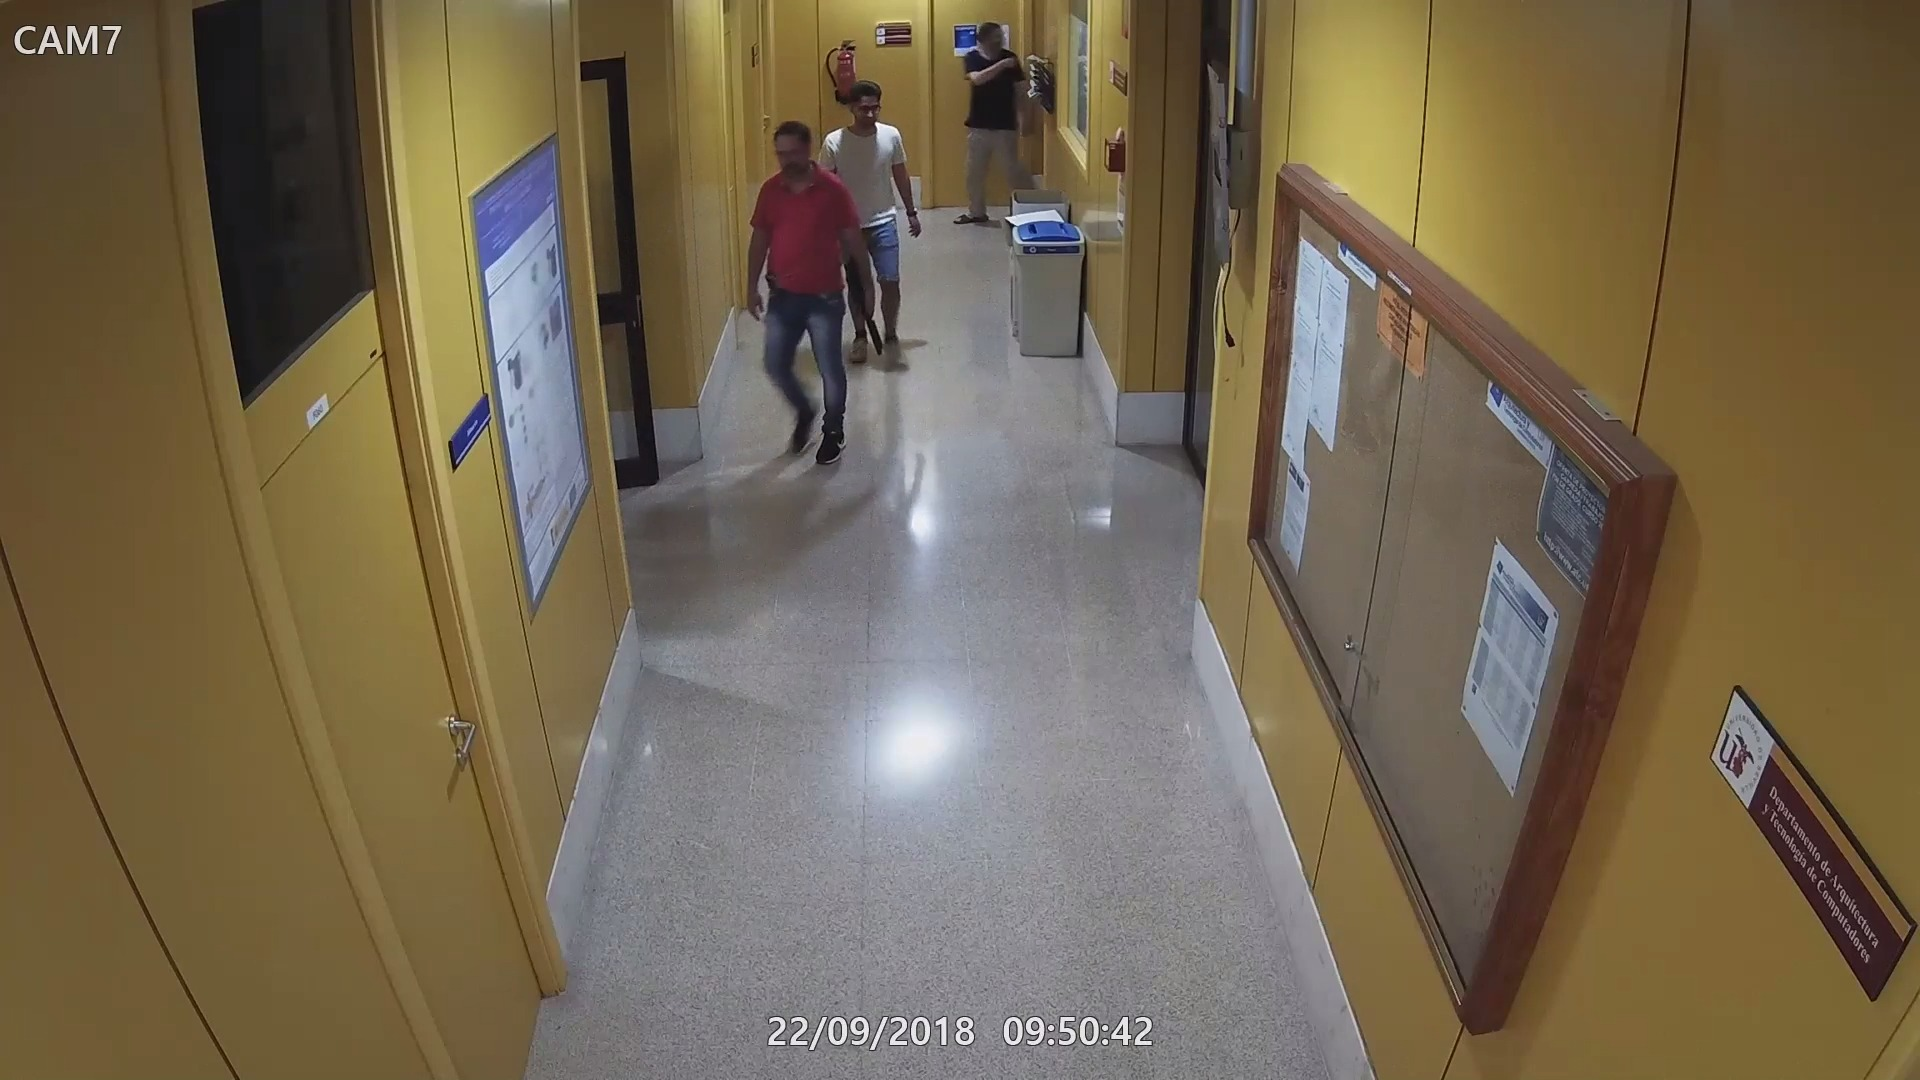Short_rifle: (835, 255, 884, 352)
